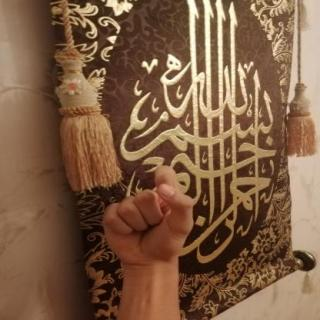FAA: (92, 159, 204, 275)
